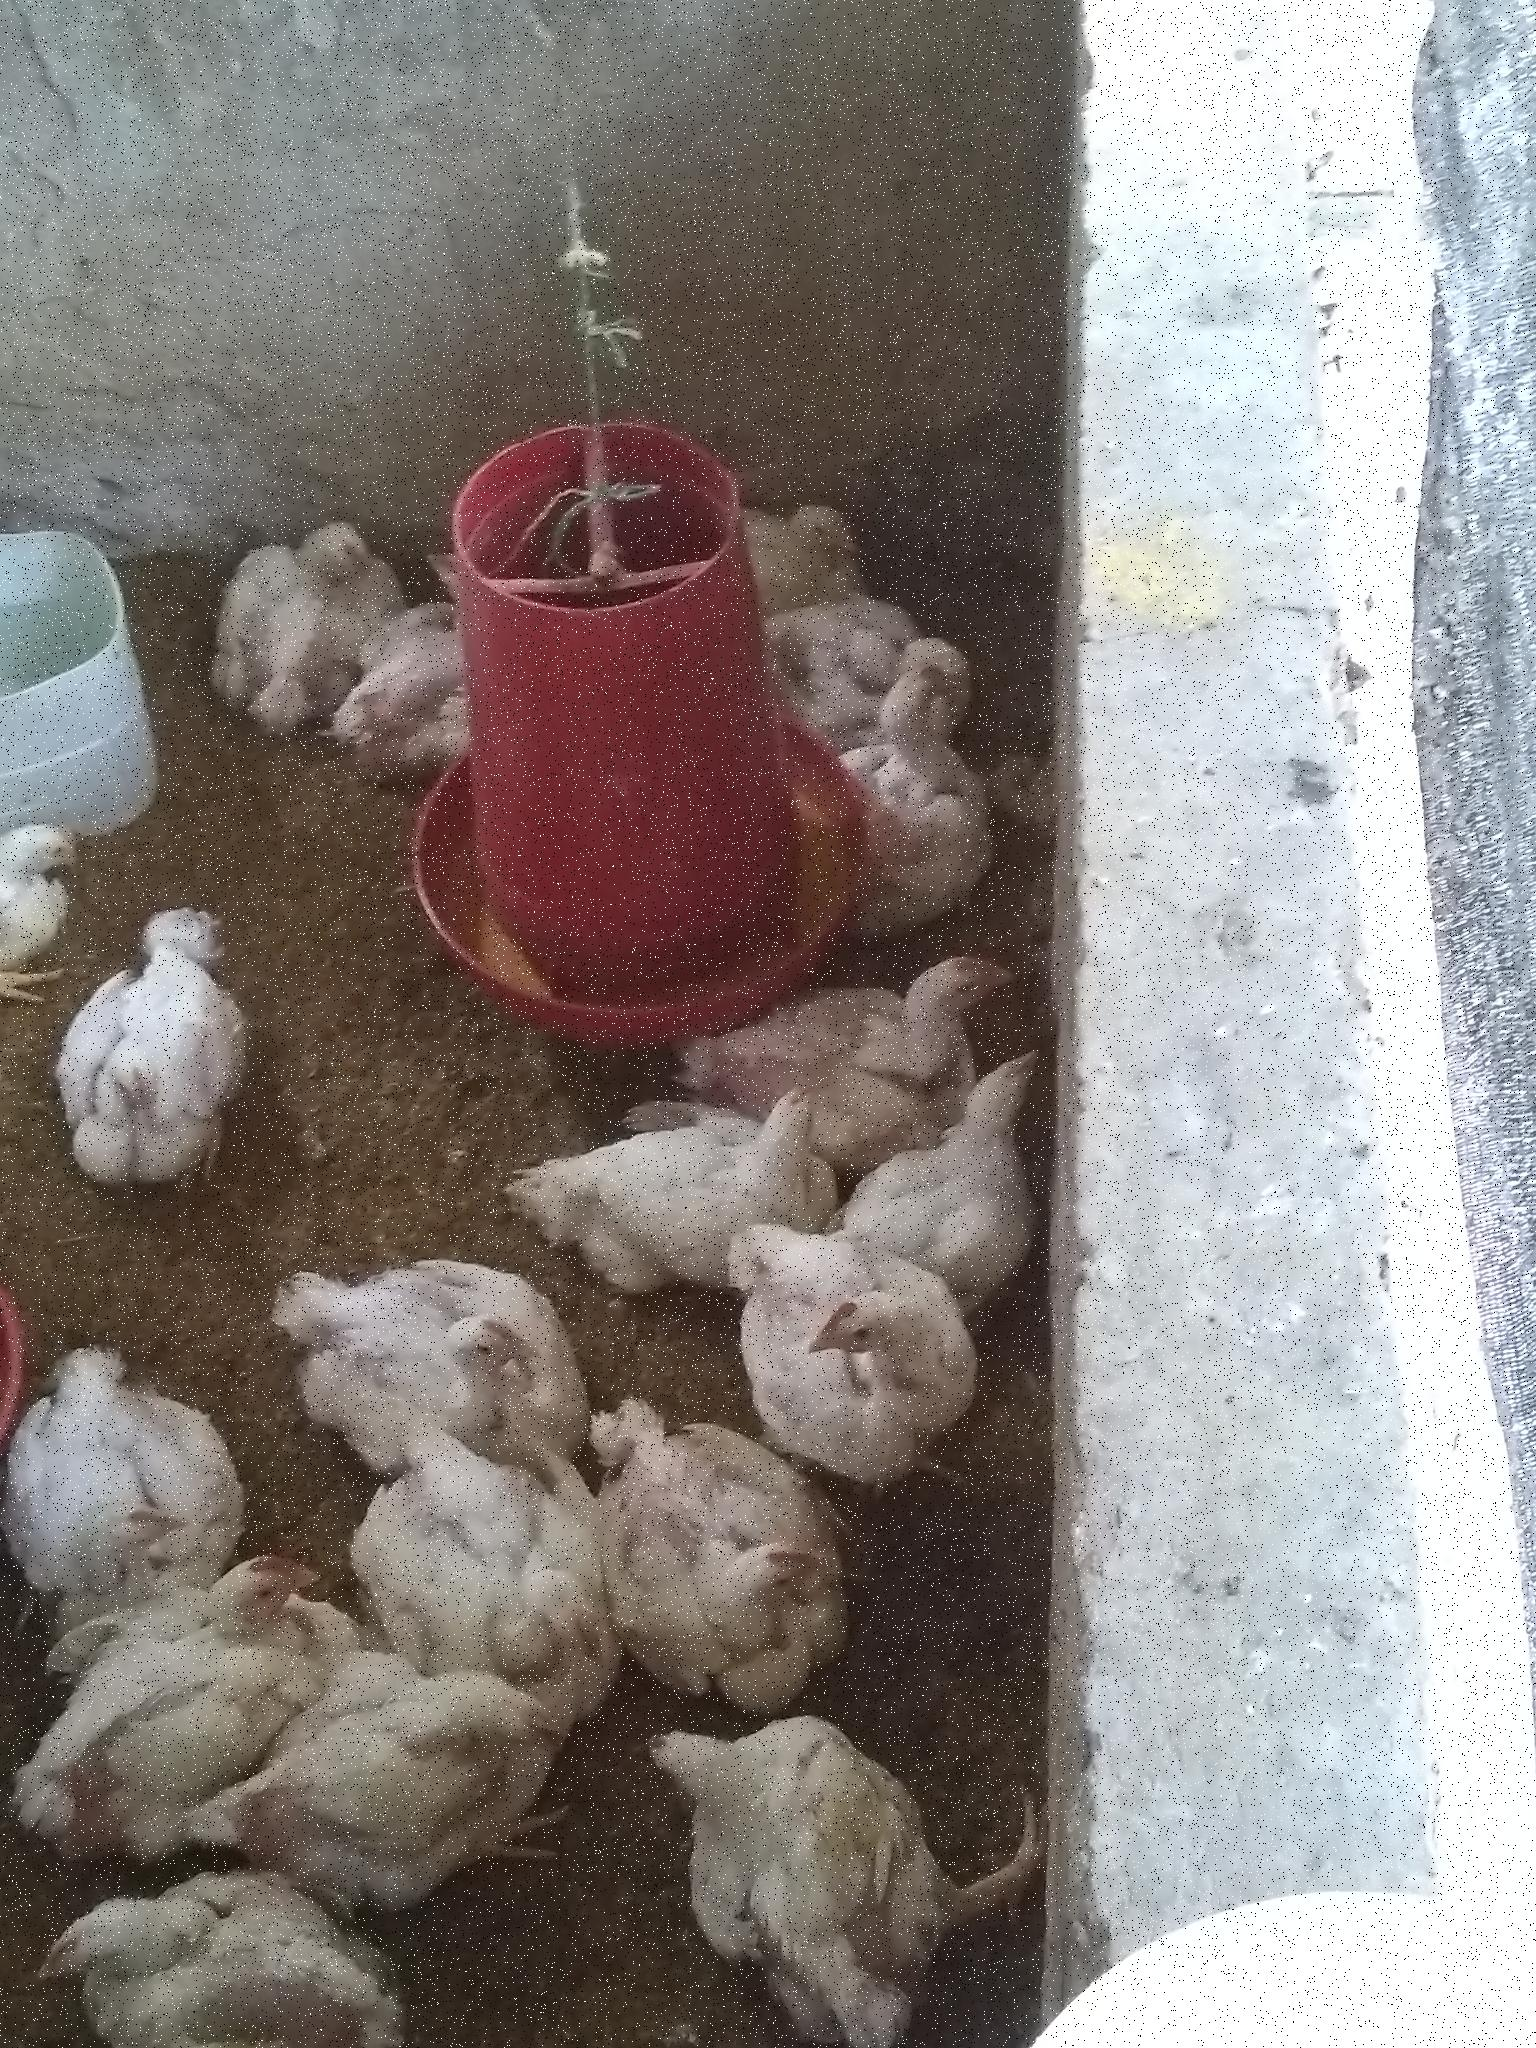Pollos: (637, 1685, 1075, 2048), (2, 1546, 282, 1887), (586, 1413, 881, 1703), (252, 1250, 624, 1472), (345, 1413, 642, 1688), (269, 1671, 584, 1930), (500, 1071, 858, 1288), (707, 913, 1042, 1135), (55, 900, 279, 1230), (2, 1335, 261, 1595), (23, 1892, 449, 2048), (702, 1242, 984, 1459), (863, 1059, 1105, 1298), (347, 542, 507, 777), (207, 508, 384, 716), (860, 664, 979, 910), (758, 587, 916, 734), (2, 797, 81, 989), (724, 493, 876, 593)
